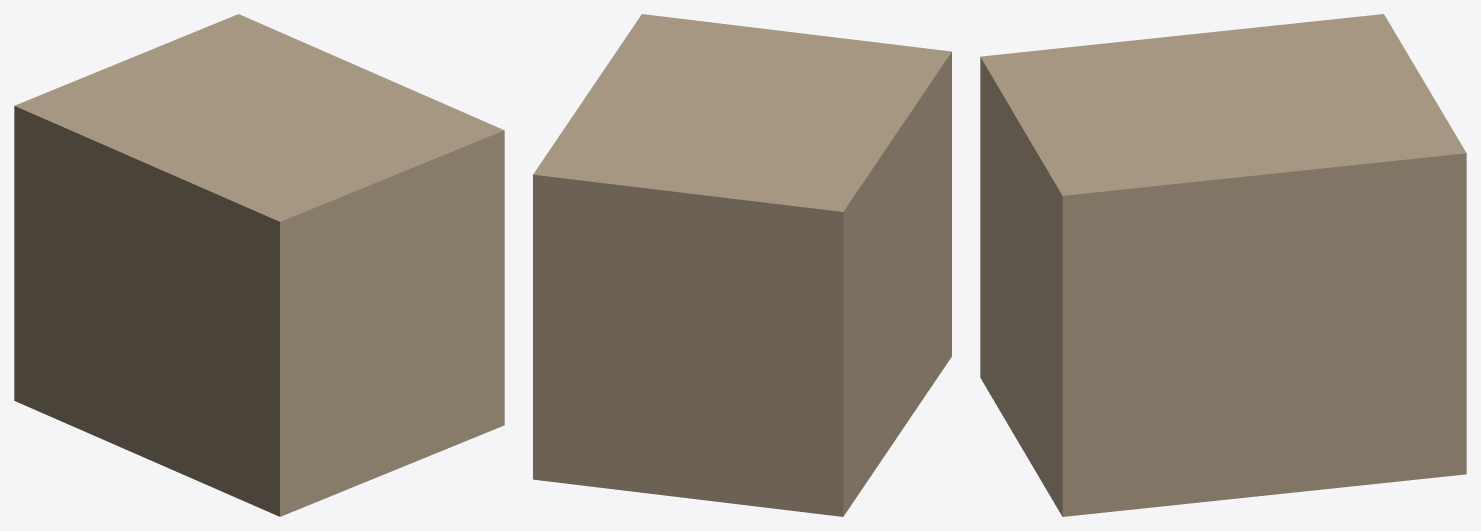
File: bld_55879451.dae
The picture shows the model from 3 angles, left to right: view 1: azimuth 30°, elevation 25°; view 2: azimuth 150°, elevation 25°; view 3: azimuth 270°, elevation 25°; orthographic projection. The views are drawn at different scales.
Parts seen in each view (by area): view 1: bld_55879451; view 2: bld_55879451; view 3: bld_55879451.
Part boxes in pixels (x1=…): bld_55879451: x1=14, y1=14, x2=504, y2=516; bld_55879451: x1=533, y1=14, x2=951, y2=516; bld_55879451: x1=980, y1=14, x2=1466, y2=516.
Size of the model in its own units: 9.72 by 10.98 by 8.
